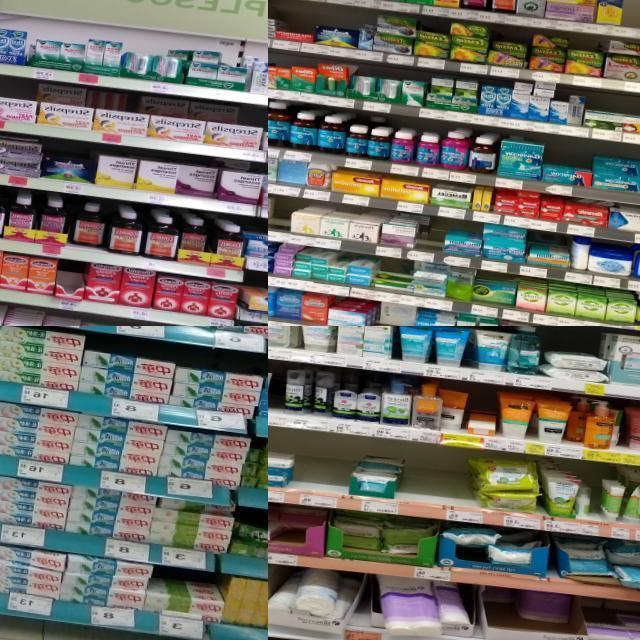Imprecise: (334, 515, 436, 558), (552, 534, 640, 583), (192, 101, 262, 148), (514, 588, 577, 640), (140, 96, 204, 144), (36, 82, 94, 130), (270, 510, 330, 548), (461, 412, 498, 432)
